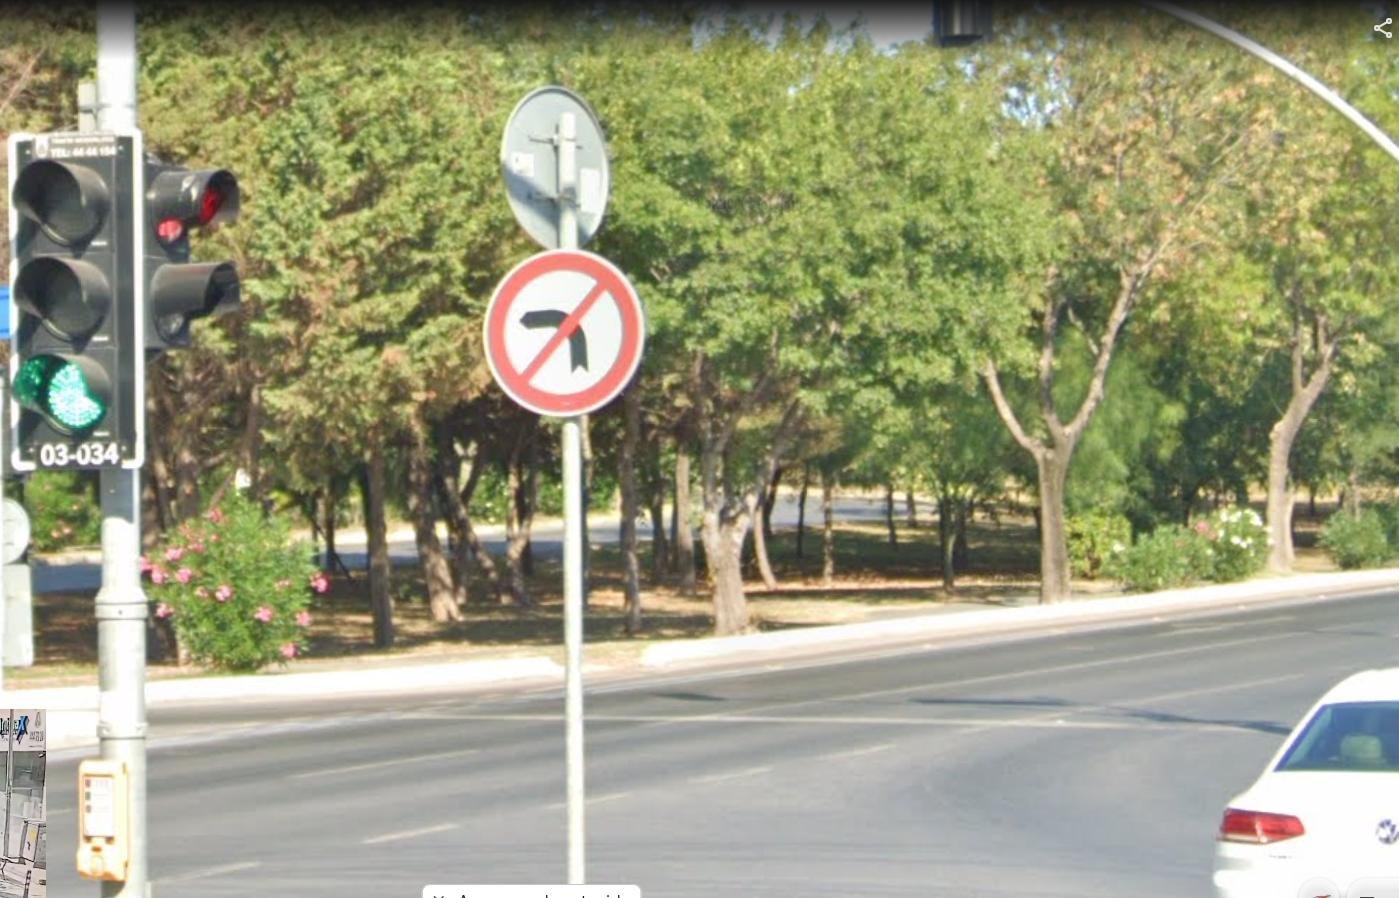greenlight: (13, 134, 126, 469)
leftturnsareforbidden: (494, 260, 638, 407)
